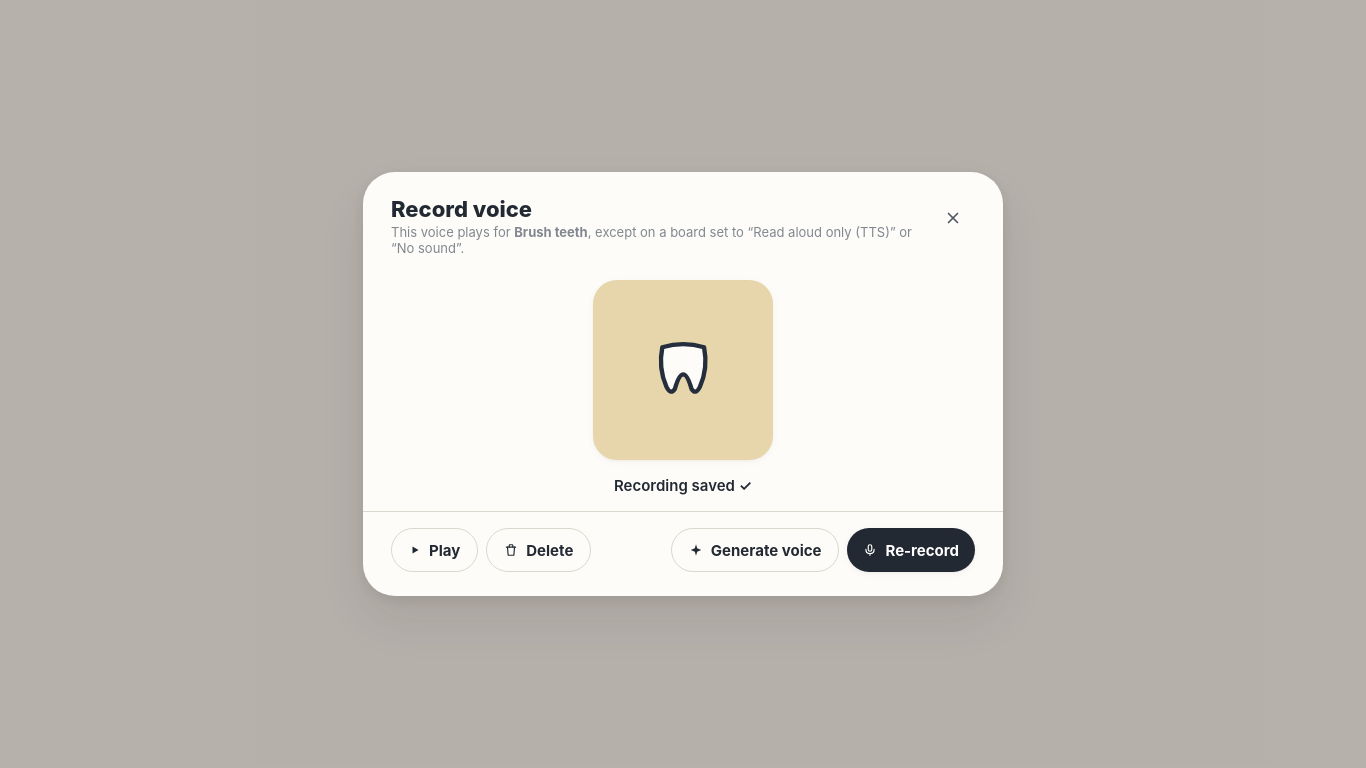
VoiceRecorderDialog › reports a failed delete
The width and height of the screenshot is (1366, 768).
Click the button "Delete": (539, 550) [486, 528, 591, 572]
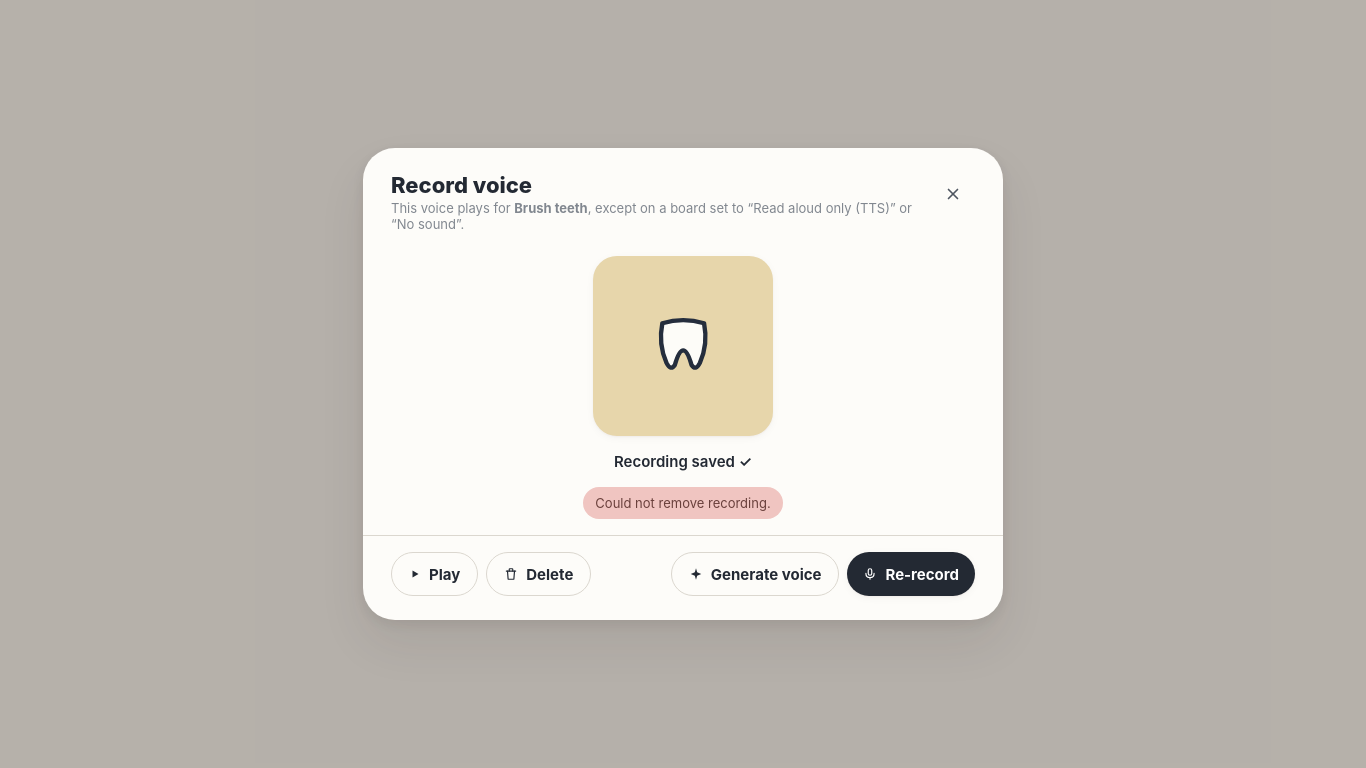
Check: the text "Could not remove recording." is shown, box [583, 487, 783, 519]
